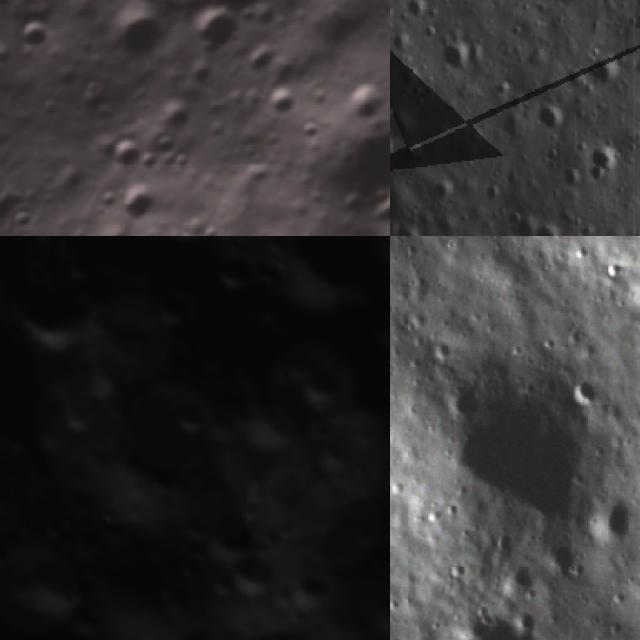crater: (436, 379, 603, 528), (90, 0, 353, 65), (303, 81, 390, 230), (8, 272, 102, 367), (10, 551, 98, 639), (93, 0, 177, 76), (181, 0, 255, 69), (222, 535, 288, 603), (107, 174, 173, 236), (91, 120, 153, 181), (204, 243, 264, 301), (206, 499, 264, 557), (56, 384, 114, 441), (448, 612, 562, 640), (259, 74, 312, 128), (162, 393, 214, 446), (6, 13, 55, 64), (337, 74, 386, 124), (438, 375, 489, 423), (296, 353, 345, 402), (437, 32, 485, 82), (152, 93, 200, 142), (152, 285, 200, 334), (586, 50, 632, 96), (92, 341, 138, 386), (239, 38, 284, 83), (361, 169, 390, 236), (601, 495, 639, 546), (583, 138, 624, 185), (531, 94, 568, 144), (4, 198, 47, 236), (570, 375, 606, 410), (150, 236, 217, 253), (390, 100, 413, 144), (430, 172, 460, 205), (399, 0, 432, 30), (532, 214, 575, 236), (602, 260, 628, 284), (390, 220, 426, 236)
